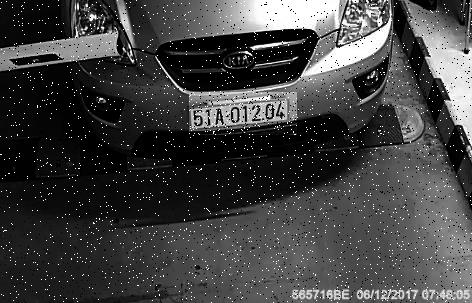License-plate: (191, 93, 300, 136)
